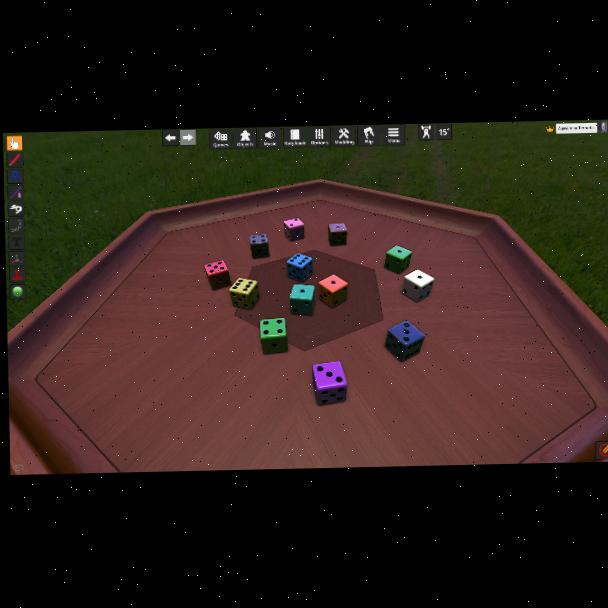d6: (385, 320, 424, 362), (312, 361, 347, 406), (402, 269, 433, 303), (318, 274, 348, 309), (259, 318, 288, 354), (229, 277, 258, 310), (288, 284, 315, 315), (384, 246, 412, 275), (286, 252, 312, 283), (204, 262, 230, 291), (284, 217, 305, 242), (249, 234, 270, 259), (328, 223, 347, 246)
